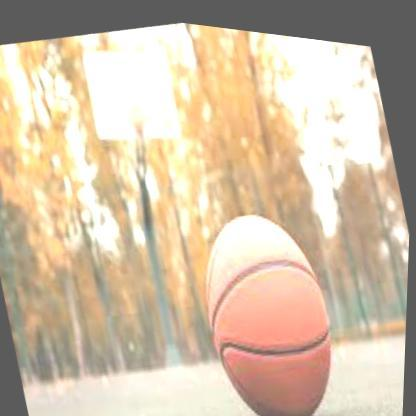basketball: (185, 188, 360, 416)
